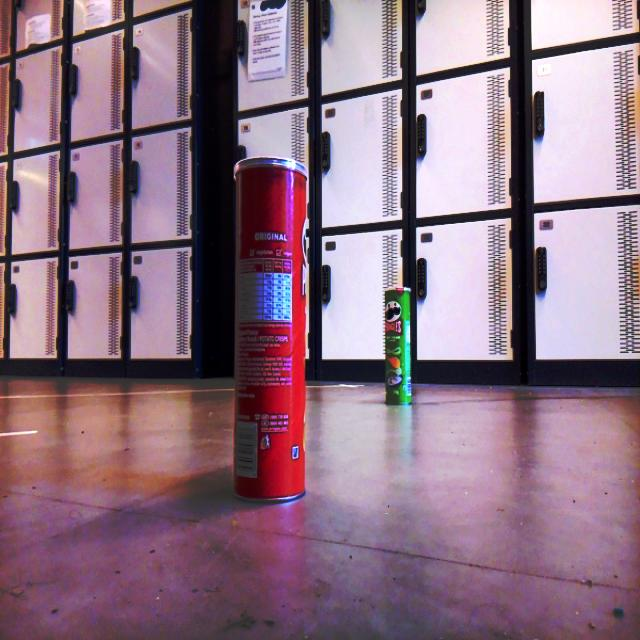greenpringles: (369, 284, 428, 414)
redpringles: (230, 144, 322, 517)
